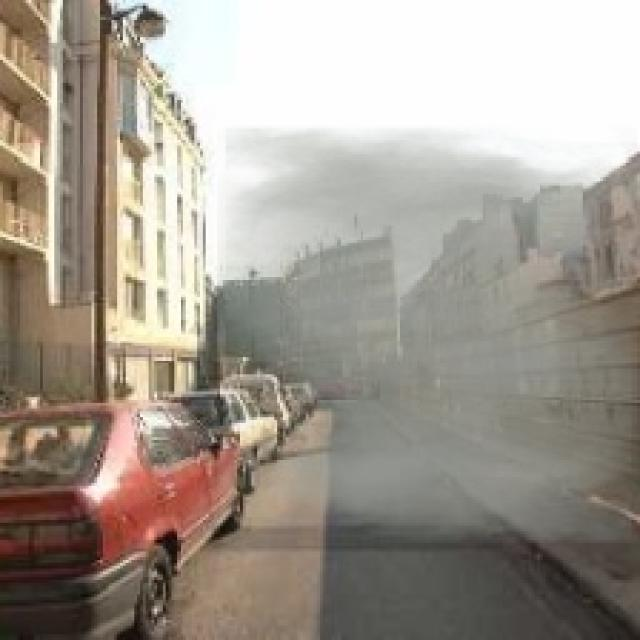smoke: (217, 126, 637, 543)
